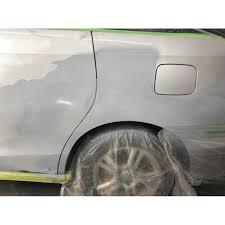quaterpanel-dent: (89, 29, 224, 181)
